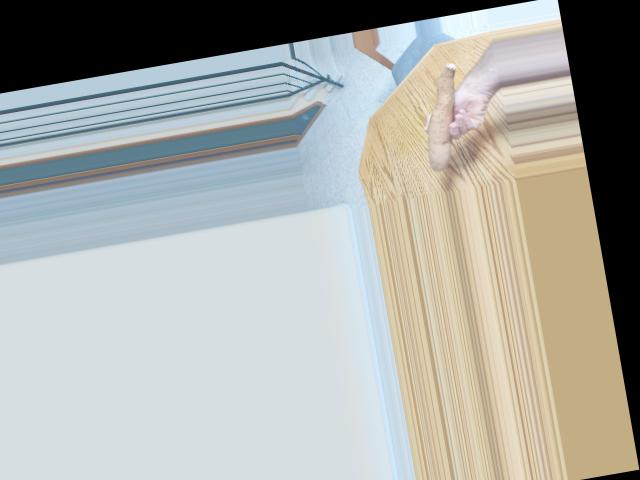sweet_potato: (408, 61, 482, 169)
